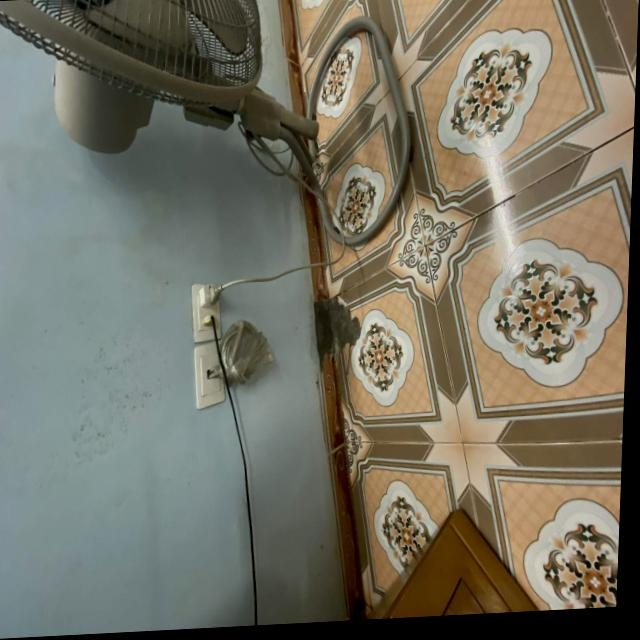outlet: (191, 343, 228, 410), (189, 281, 224, 343)
